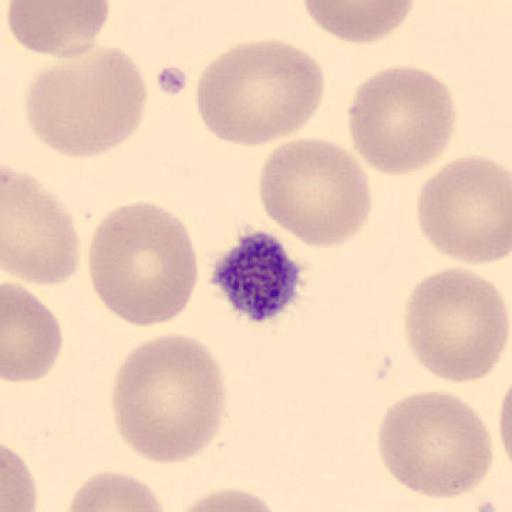Platelet: (206, 228, 306, 324)
RBC: (110, 331, 228, 467), (86, 200, 200, 330), (194, 38, 328, 148), (22, 45, 149, 160), (256, 136, 374, 249), (376, 389, 494, 500), (402, 265, 510, 384), (346, 64, 458, 178), (415, 154, 512, 265), (2, 166, 80, 287), (1, 279, 64, 384), (6, 0, 112, 59), (300, 0, 418, 45), (64, 468, 168, 512), (168, 486, 282, 512), (0, 441, 38, 511), (498, 379, 512, 467)
